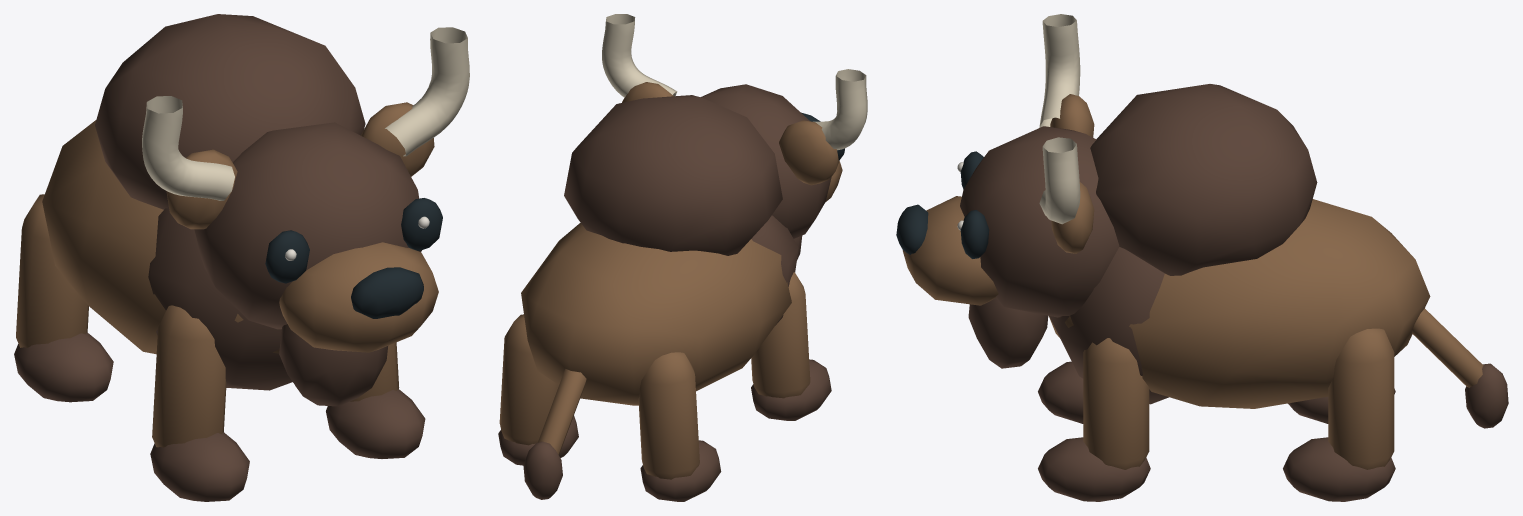
File: org_bison.glb
The picture shows the model from 3 angles, left to right: view 1: azimuth 30°, elevation 25°; view 2: azimuth 150°, elevation 25°; view 3: azimuth 270°, elevation 25°; orthographic projection. The views are drawn at different scales.
Parts seen in each view (by area): view 1: Head, Body, Leg_FR, Leg_BR, Leg_FL, Eye_R, Eye_L; view 2: Body, Head, Leg_BR, Leg_FR, Leg_BL, Tail; view 3: Body, Head, Leg_BL, Leg_FL, Tail, Leg_FR, Eye_L, Leg_BR.
Boxes of the visible parts, x1,y1,x2,y2 form: Head: [142, 27, 469, 406]; Body: [42, 14, 365, 390]; Leg_FR: [150, 305, 249, 501]; Leg_BR: [14, 194, 113, 402]; Leg_FL: [326, 342, 425, 458]; Eye_R: [265, 230, 309, 283]; Eye_L: [401, 198, 442, 250]; Body: [521, 95, 798, 405]; Head: [602, 14, 867, 259]; Leg_BR: [638, 352, 721, 501]; Leg_FR: [751, 272, 831, 420]; Leg_BL: [498, 314, 578, 465]; Tail: [523, 369, 586, 499]; Body: [1049, 84, 1430, 408]; Head: [896, 14, 1119, 368]; Leg_BL: [1283, 328, 1395, 501]; Leg_FL: [1038, 338, 1150, 501]; Tail: [1412, 308, 1508, 428]; Leg_FR: [1038, 361, 1083, 423]; Eye_L: [957, 210, 989, 258]; Leg_BR: [1288, 388, 1395, 423].
Bounding box in the file's own units: 1.46 × 1.8 × 2.65.
